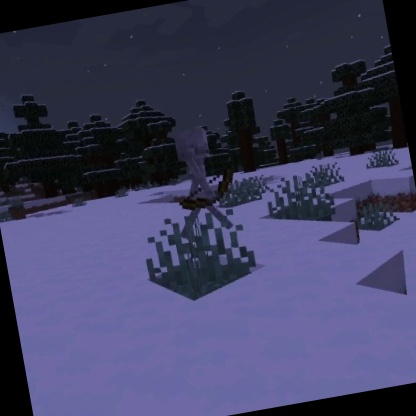skeleton: (161, 118, 246, 240)
